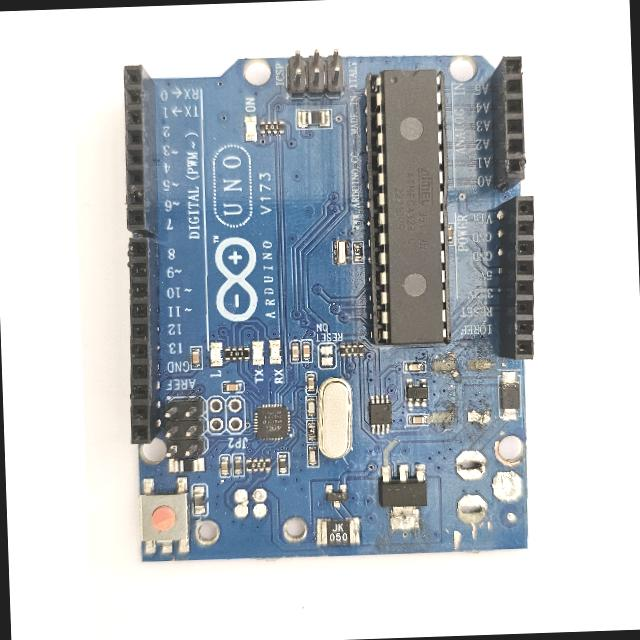missing_capacitors: (428, 352, 499, 428)
missing_eps: (451, 442, 508, 539)
missing_usb: (209, 479, 313, 552)
